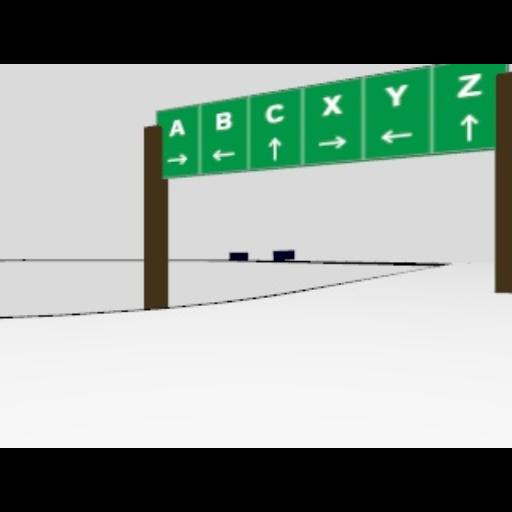A: (167, 117, 187, 137)
B: (214, 110, 234, 132)
C: (264, 102, 286, 124)
Left: (380, 127, 414, 145), (212, 148, 236, 164)
Right: (317, 134, 347, 150), (166, 152, 188, 166)
Straight: (459, 112, 479, 144), (268, 134, 282, 162)
X: (321, 92, 343, 118)
Y: (384, 82, 408, 108)
Z: (456, 72, 484, 100)
